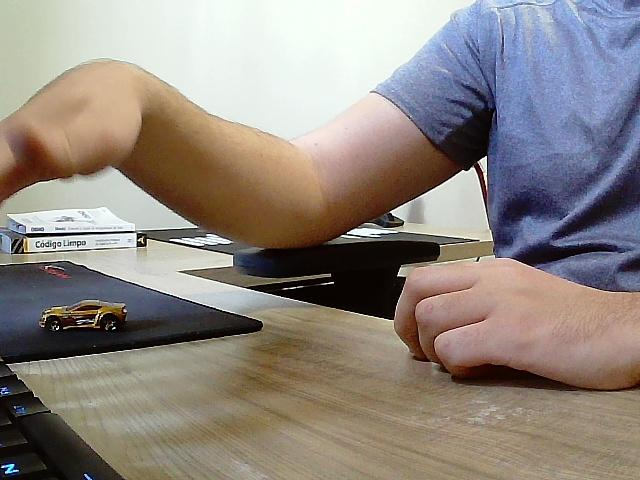Carro: (37, 299, 128, 332)
